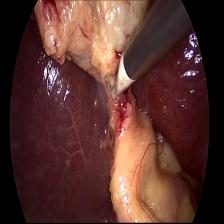Hook: (104, 45, 139, 109)
